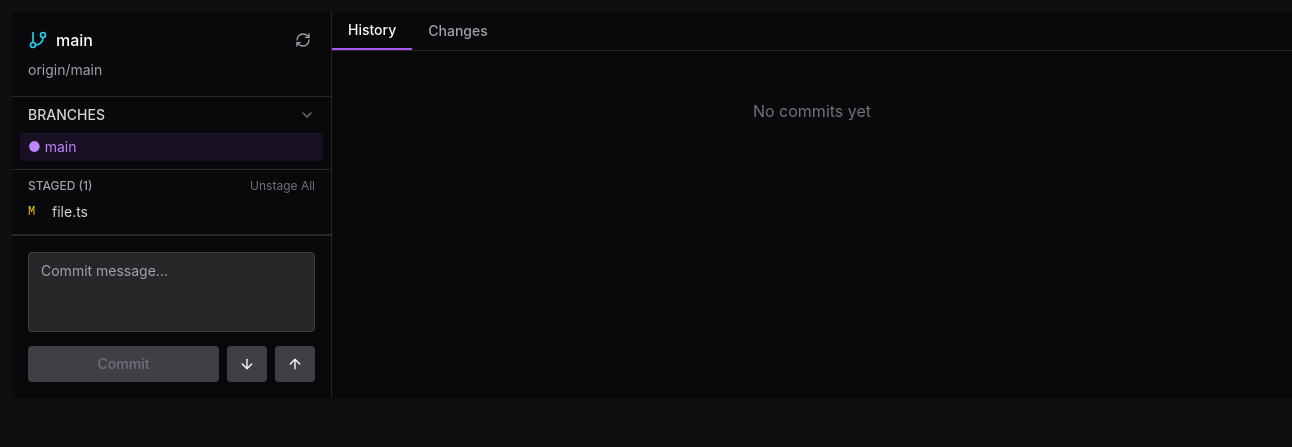
GitPanel › Commit Functionality › should display error when commit fails
expect the text "file.ts" is shown: met, box [52,202,88,222]
In the text box with placeholder "Commit message...": (172, 292) [28,252,315,332], type "Fix bug"
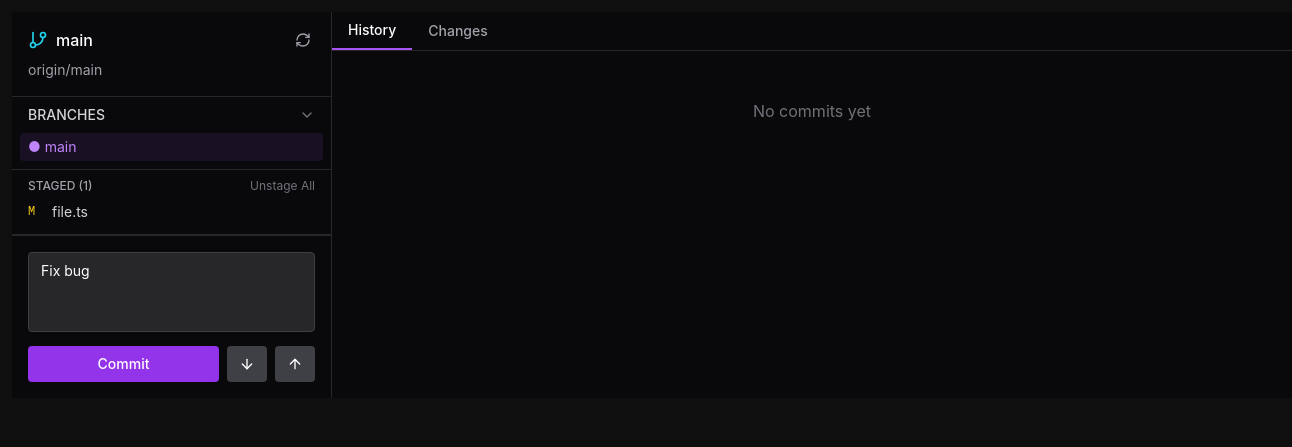
Click the button "Commit": (124, 364) [28,346,219,382]
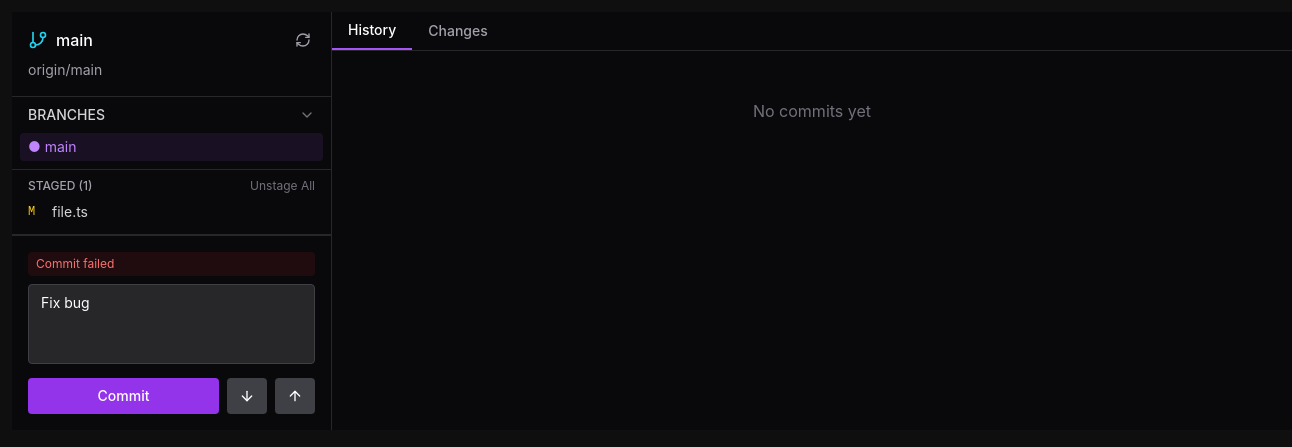
expect the text "Commit failed" is shown: met, box [28,252,315,276]
